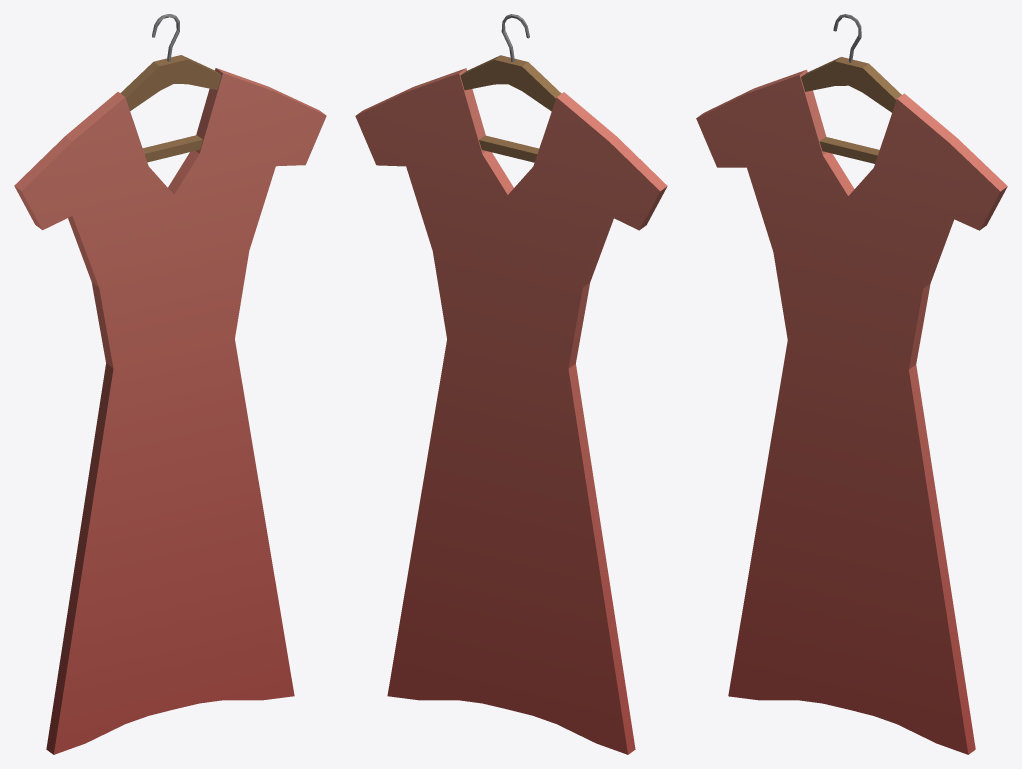
Rendered from Clothes7_C1.fbx.
3 renders of one model, left to right at view 1: azimuth 30°, elevation 25°; view 2: azimuth 150°, elevation 25°; view 3: azimuth 330°, elevation 25°, orthographic.
Parts seen in each view (by area): view 1: Clothes7_C1; view 2: Clothes7_C1; view 3: Clothes7_C1.
Part boxes in pixels (<box>): Clothes7_C1: <box>14,14,326,754</box>; Clothes7_C1: <box>355,14,667,754</box>; Clothes7_C1: <box>696,14,1007,754</box>.
Bounding box in the file's own units: 49.29 × 109 × 2.07.
